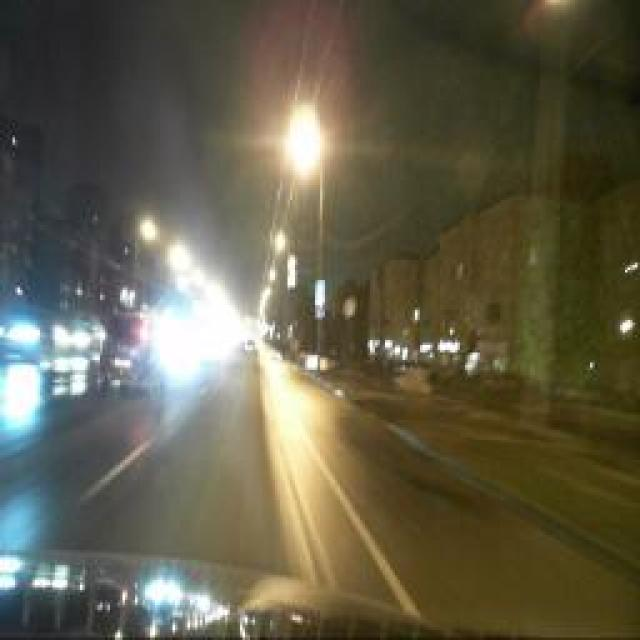sign: (315, 304, 325, 318)
